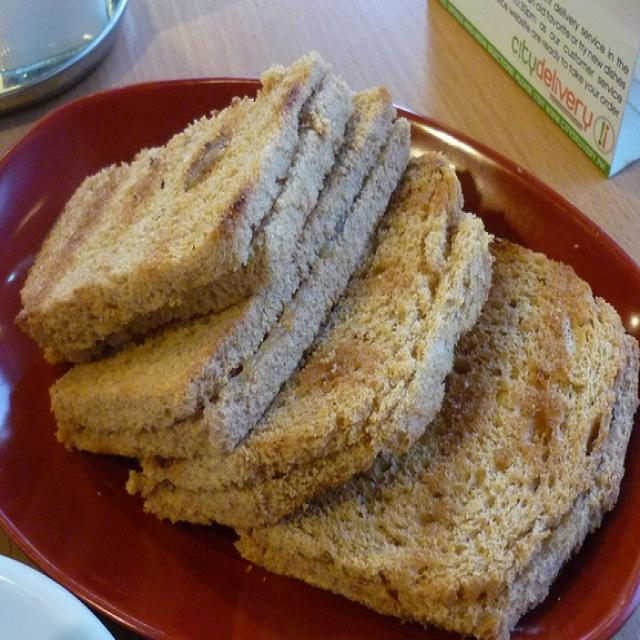面包点心: (15, 50, 636, 621)
